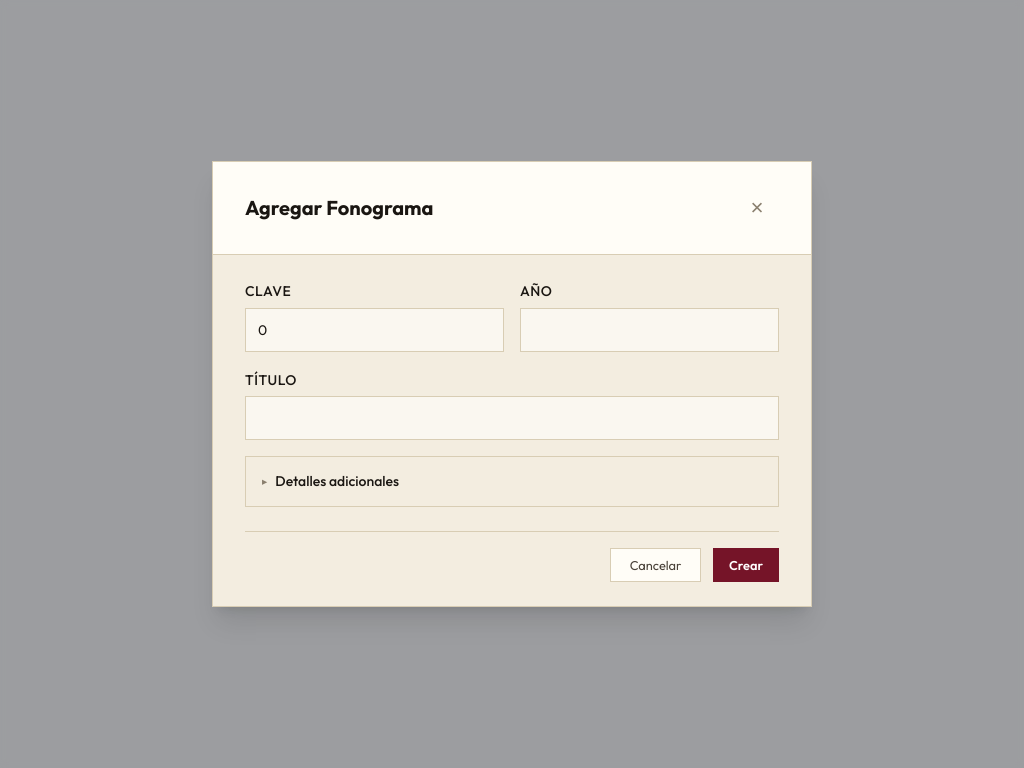
Test case: AdminFormModal.vue › shows server error when the API throws
Replace the text in the number field with id "clave_fonograma" with "1" at (374, 330), box [245,308,504,352]
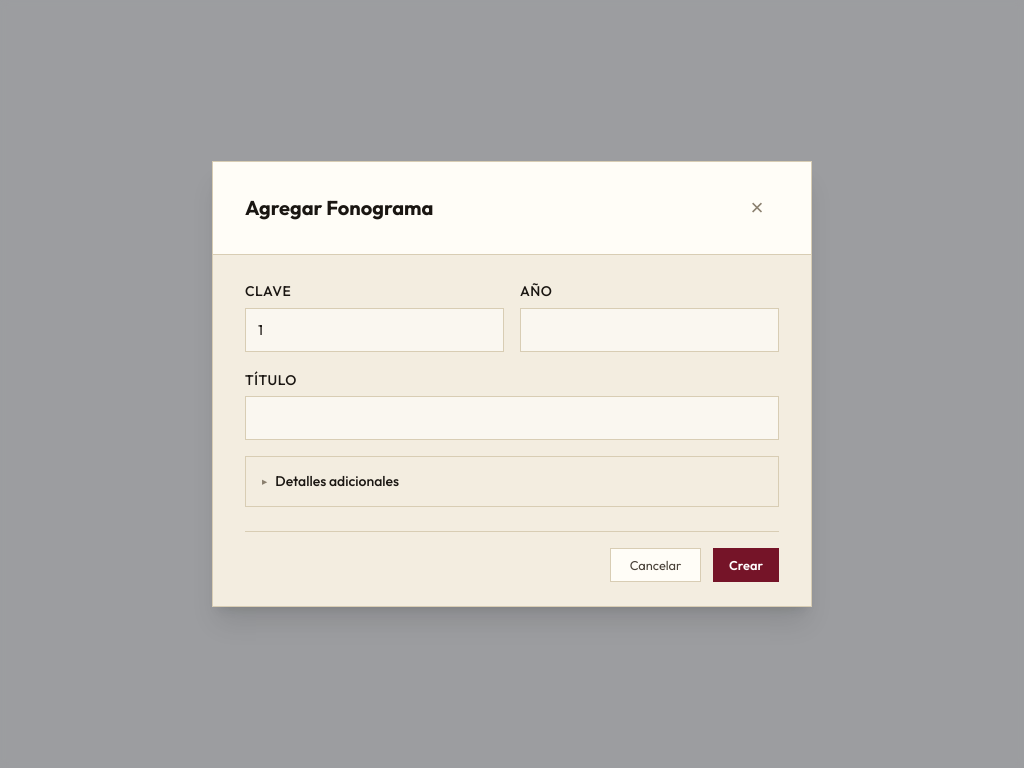
Type "X" into the field with id "titulo" at (512, 418), box [245,396,779,440]
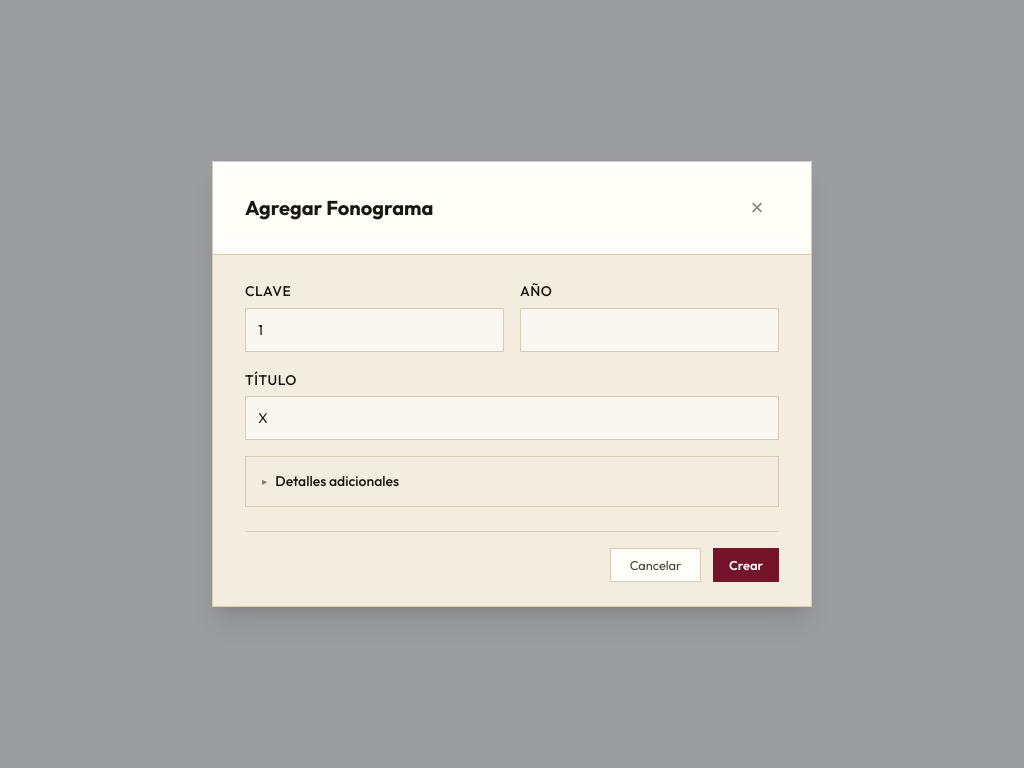
Submit the form, box [245,279,779,582]
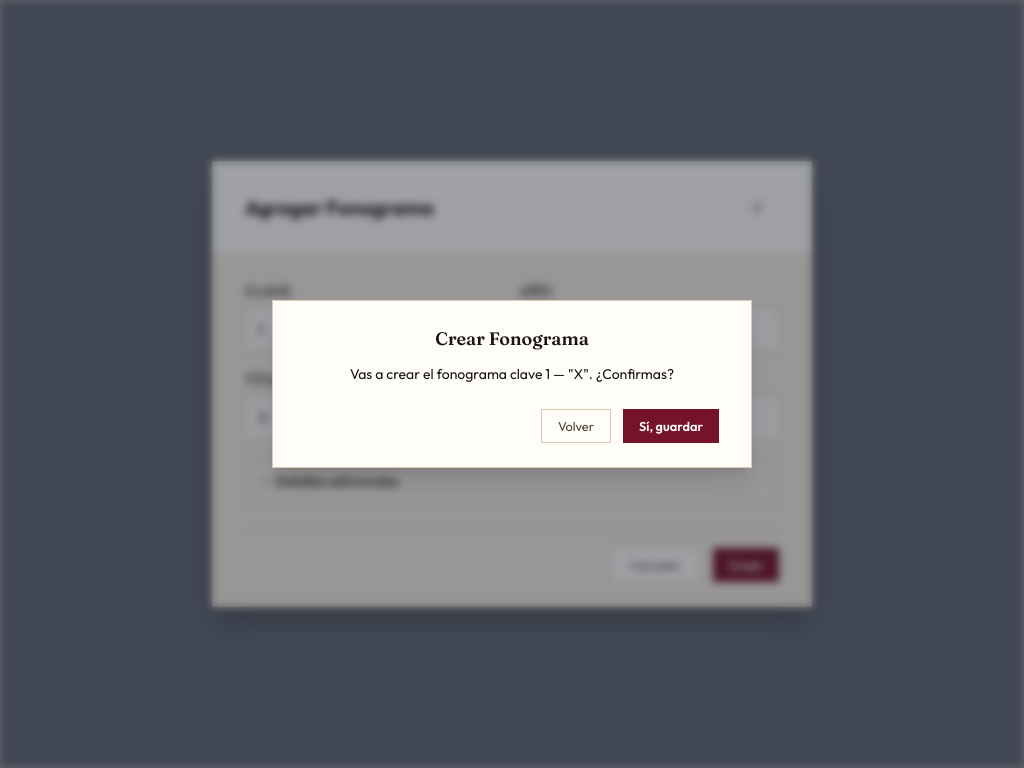
Click the button "Sí, guardar" at (671, 426), box [623,409,719,443]
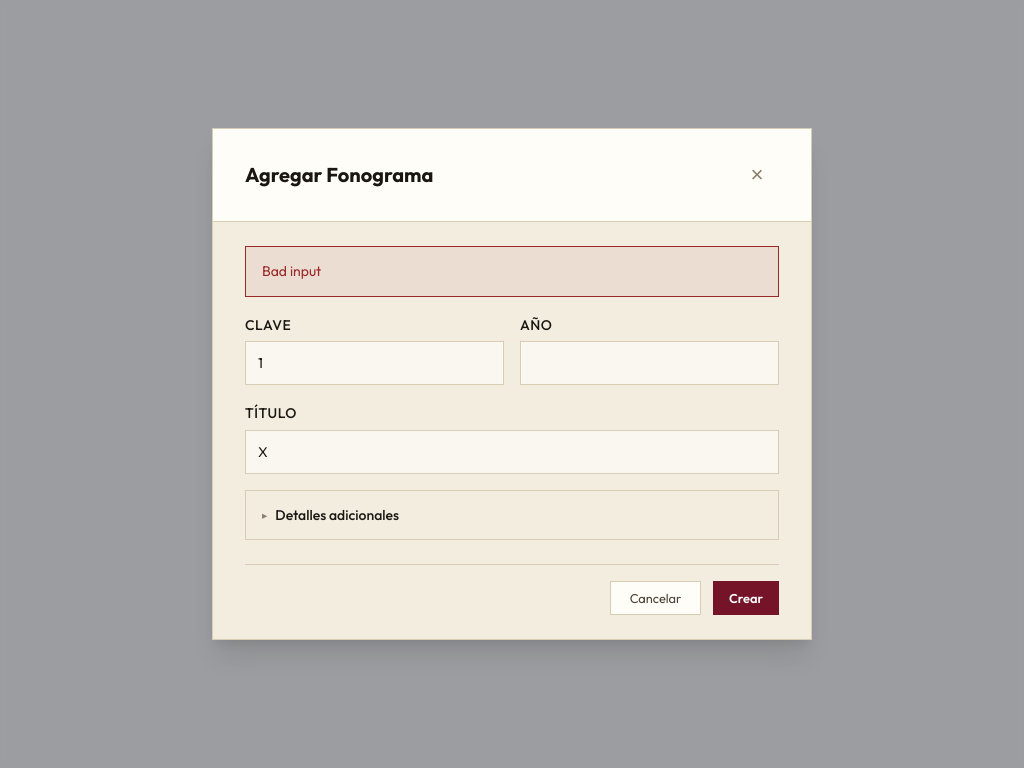
Expected: the text with class "form-error" reads "Bad input", [262,262,321,280]
